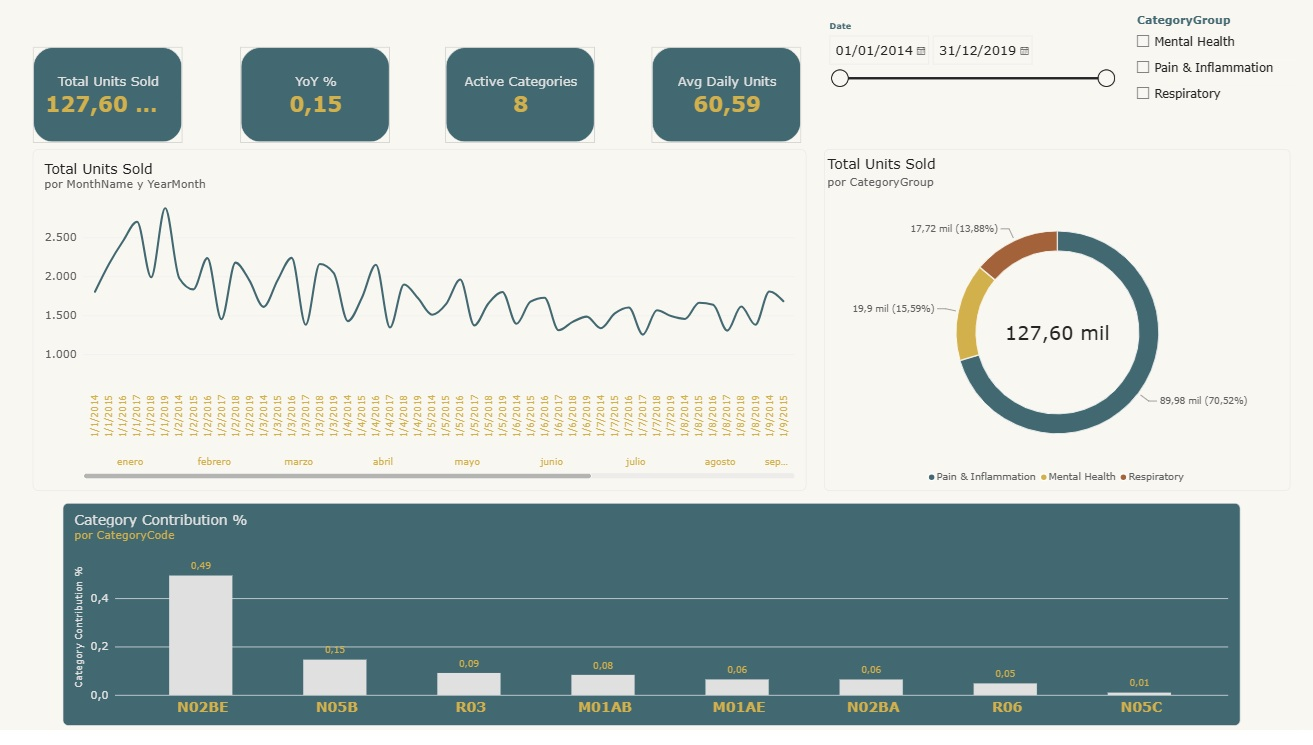

The dashboard page shown, as its layout file describes it:
{"tool":"powerbi","page":{"name":"Executive Overview","canvas":[1920,1080],"ordinal":1},"visuals":[{"type":"cardVisual","fields":{"Data":["Mesures.Total Units Sold"]},"box":[63.4,77.7,217.2,139.3],"z":0},{"type":"cardVisual","fields":{"Data":["Mesures.YoY %"]},"box":[363.6,77.7,217.2,139.3],"z":1000},{"type":"cardVisual","fields":{"Data":["Mesures.Active Categories"]},"box":[660.4,77.7,217.2,139.3],"z":2000},{"type":"cardVisual","fields":{"Data":["Mesures.Avg Daily Units"]},"box":[959,77.7,217.2,139.3],"z":3000},{"type":"donutChart","fields":{"Category":["DimCategory.CategoryGroup"],"Y":["Mesures.Total Units Sold"]},"box":[1208.9,226.2,675,494],"z":4000},{"type":"lineChart","fields":{"Category":["DimDate.MonthName","DimDate.YearMonth"],"Y":["Mesures.Total Units Sold"]},"box":[63.3,226.2,1120.2,494],"z":5000},{"type":"columnChart","fields":{"Category":["DimCategory.CategoryCode"],"Y":["Mesures.Category Contribution %"]},"box":[106.8,738.3,1704.7,322.1],"z":6000},{"type":"slicer","fields":{"Values":["DimDate.Date"]},"box":[1208.9,29,425.3,139.3],"z":7000},{"type":"slicer","fields":{"Values":["DimCategory.CategoryGroup"]},"box":[1654,29,247.9,155.6],"z":8000},{"type":"textbox","box":[63.3,5.4,1112.9,50.7],"z":9000}]}

Visuals, with their boxes in screenshot pixels (x1, y1, x2, y2), scaled from the page's 1920x1080 canvas onto the 1313x745 screenshot:
cardVisual - Mesures.Total Units Sold: {"left": 43, "top": 54, "right": 192, "bottom": 150}
cardVisual - Mesures.YoY %: {"left": 249, "top": 54, "right": 397, "bottom": 150}
cardVisual - Mesures.Active Categories: {"left": 452, "top": 54, "right": 600, "bottom": 150}
cardVisual - Mesures.Avg Daily Units: {"left": 656, "top": 54, "right": 804, "bottom": 150}
donutChart - DimCategory.CategoryGroup x Mesures.Total Units Sold: {"left": 827, "top": 156, "right": 1288, "bottom": 497}
lineChart - DimDate.MonthName x DimDate.YearMonth: {"left": 43, "top": 156, "right": 809, "bottom": 497}
columnChart - DimCategory.CategoryCode x Mesures.Category Contribution %: {"left": 73, "top": 509, "right": 1239, "bottom": 731}
slicer - DimDate.Date: {"left": 827, "top": 20, "right": 1118, "bottom": 116}
slicer - DimCategory.CategoryGroup: {"left": 1131, "top": 20, "right": 1301, "bottom": 127}
textbox: {"left": 43, "top": 4, "right": 804, "bottom": 39}
